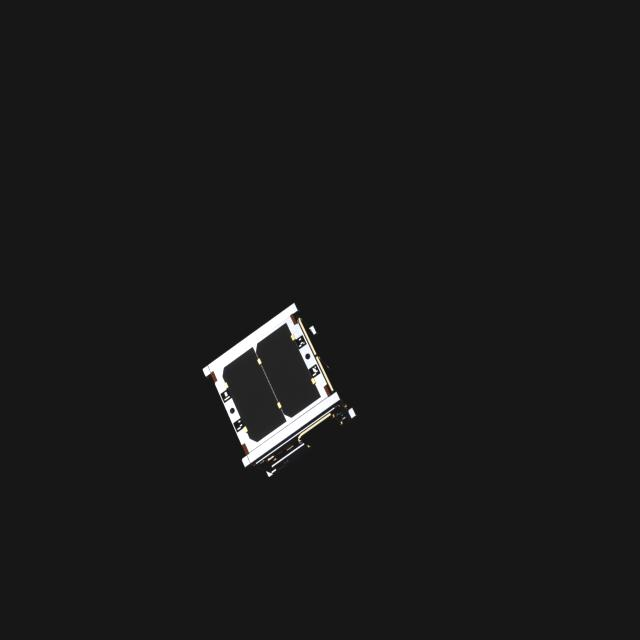satellite: (199, 303, 367, 480)
